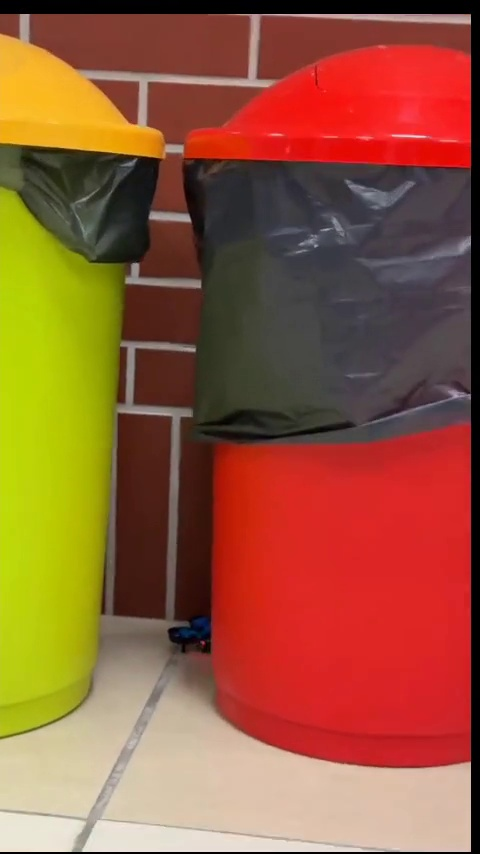drone: (169, 612, 213, 655)
